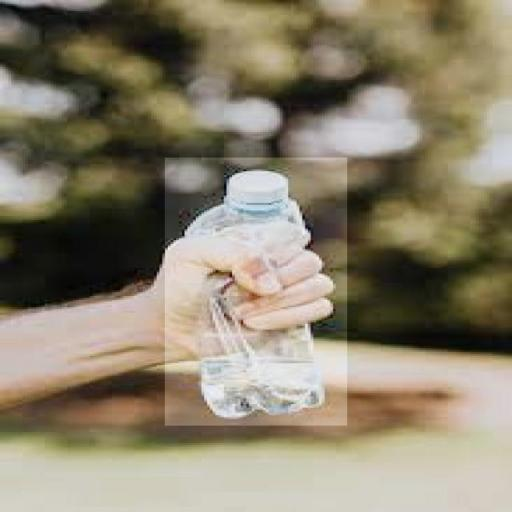plastic: (165, 158, 347, 426)
